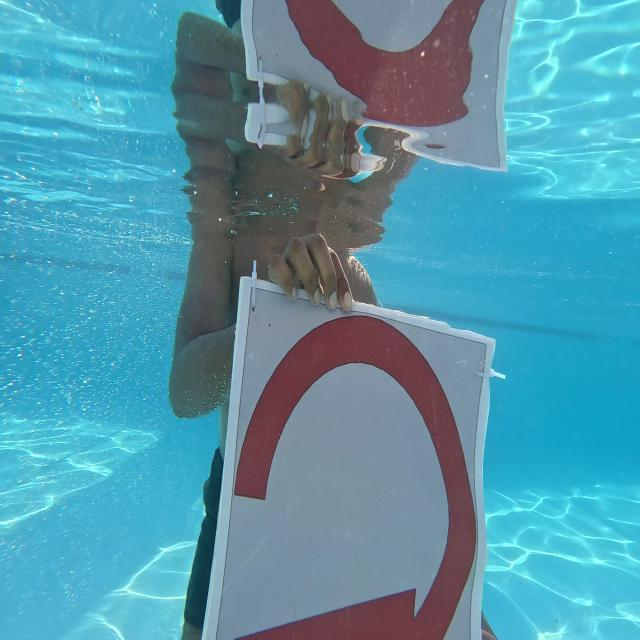red_side: (215, 268, 494, 640)
